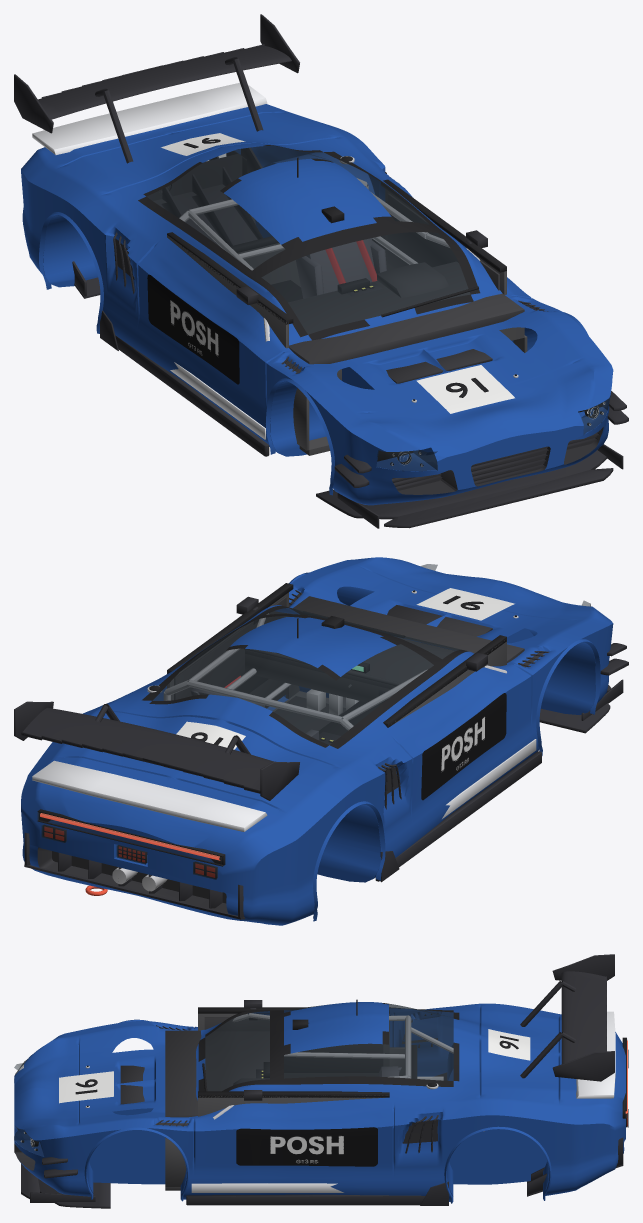
File: posh_gt3rs.glb
3 views of the same model, one above another, from view 1: azimuth 30°, elevation 25°; view 2: azimuth 150°, elevation 25°; view 3: azimuth 270°, elevation 25° (orthographic). The views are drawn at different scales.
Parts seen in each view (by area): view 1: posh_gt3rs; view 2: posh_gt3rs; view 3: posh_gt3rs.
Part boxes in pixels (bbox=[...]): posh_gt3rs: bbox=[14, 14, 628, 528]; posh_gt3rs: bbox=[14, 557, 628, 925]; posh_gt3rs: bbox=[14, 954, 628, 1208].
Size of the model in its own units: 2.04 by 1.31 by 4.68.
Materials: 25 (1 with a texture image).
